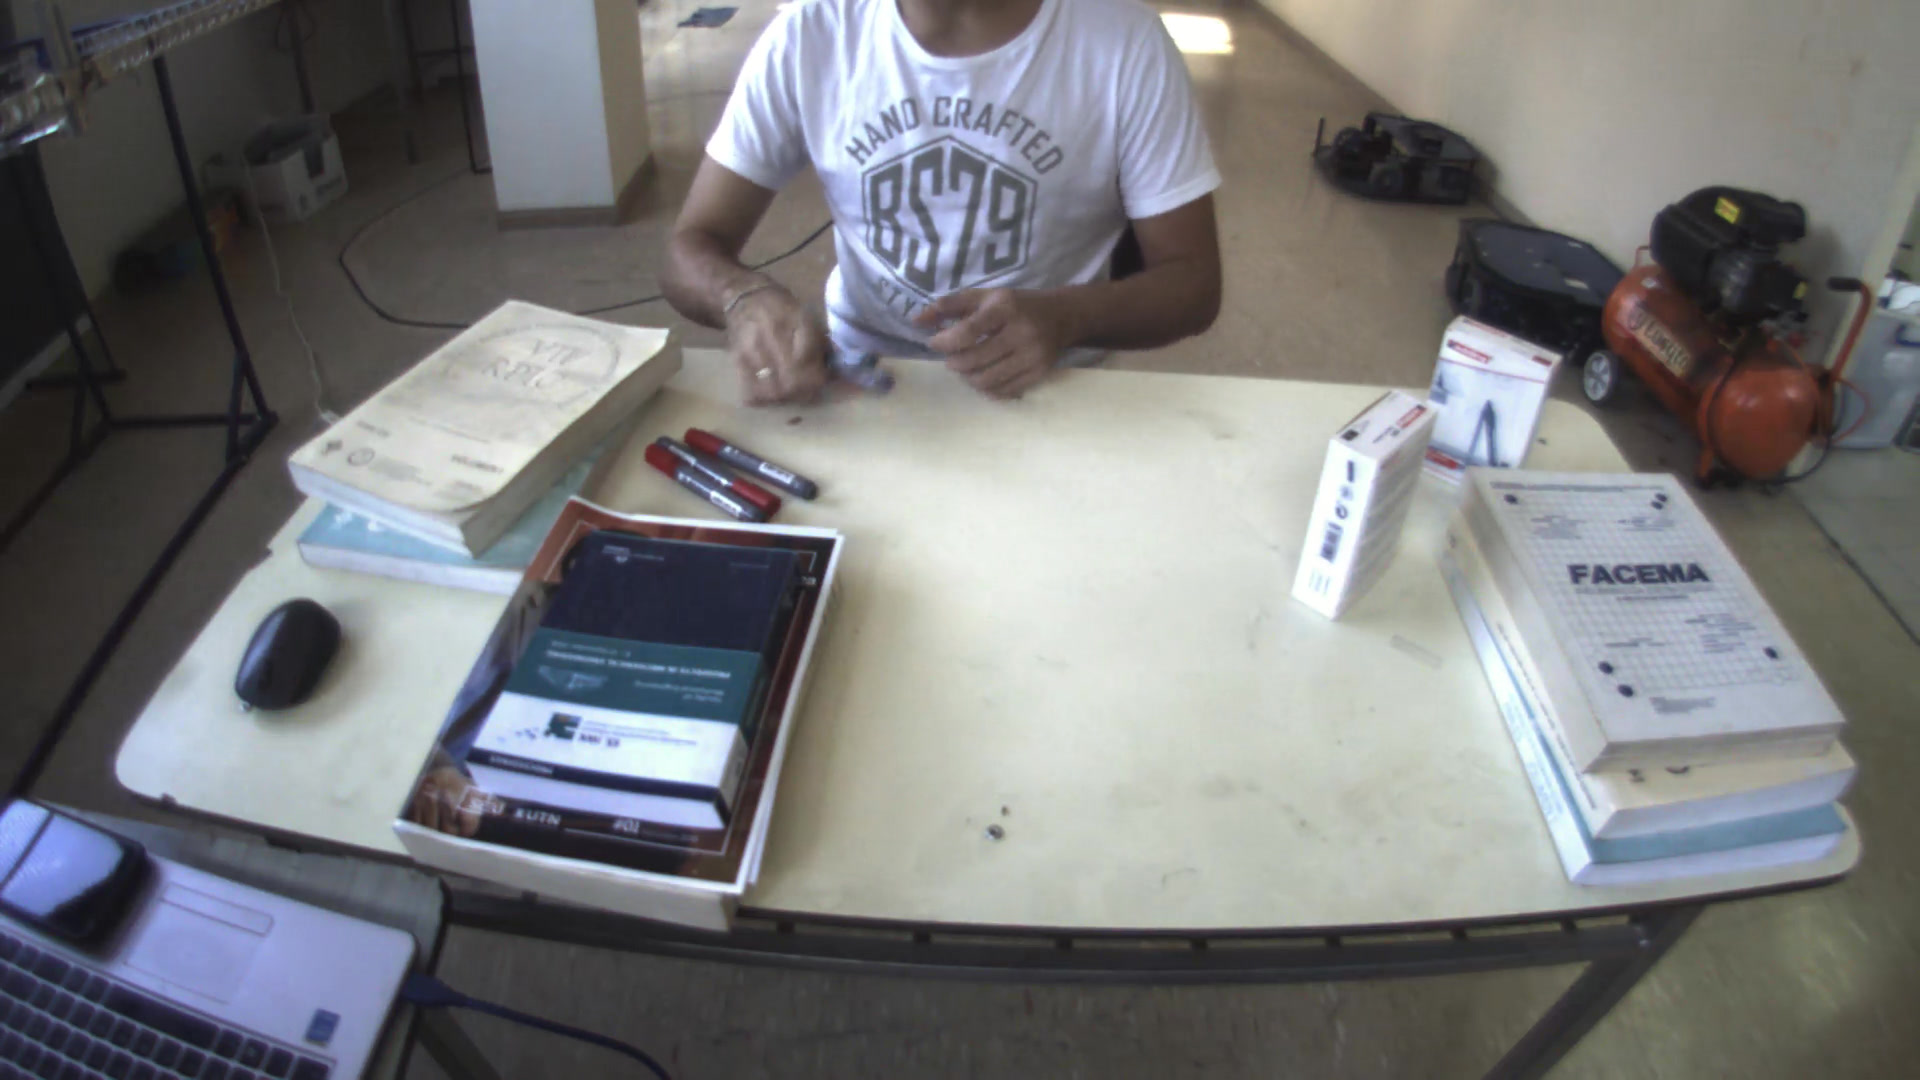hand: (909, 270, 1076, 402), (709, 278, 831, 404)
